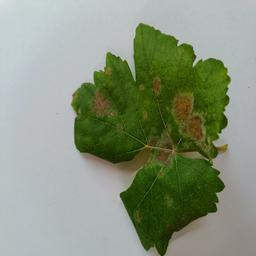Powdery-Mildew: (166, 93, 206, 145), (150, 129, 178, 172), (89, 91, 114, 119), (149, 74, 166, 91), (162, 193, 179, 210)
